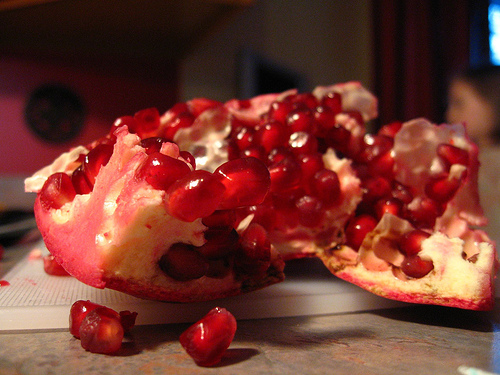pomogranate: (23, 76, 499, 368)
